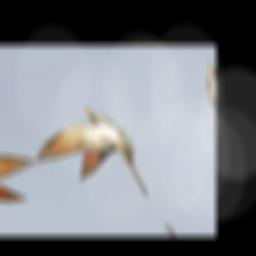Cuckoo: (17, 101, 163, 223)
